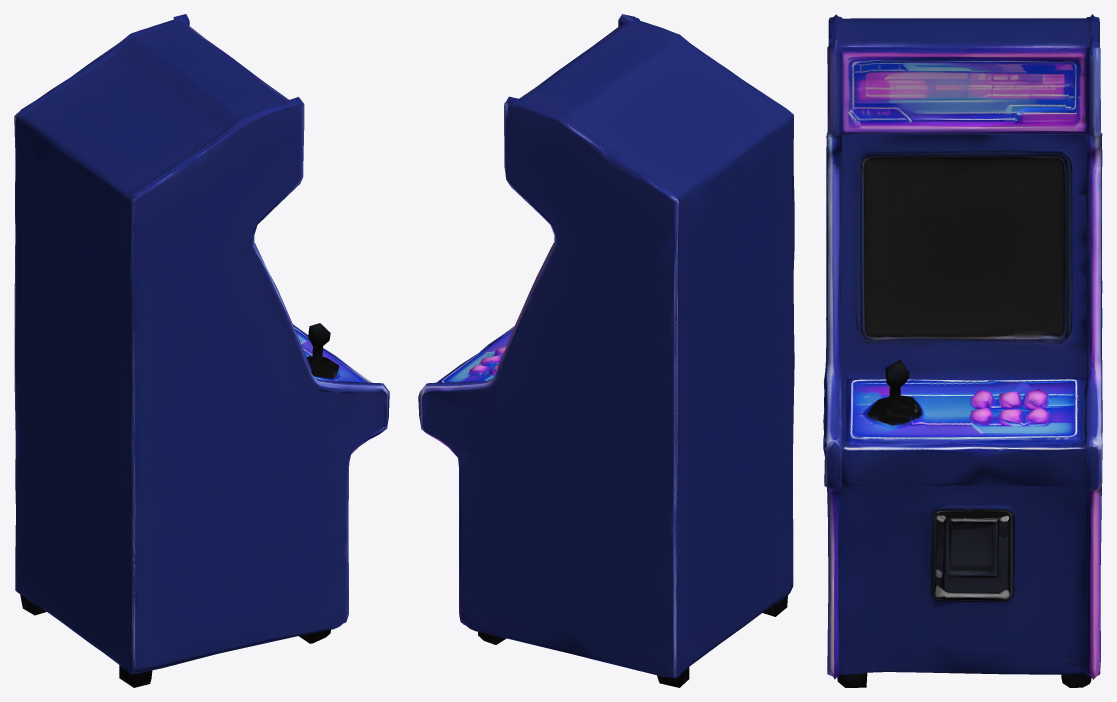
The picture shows the model from 3 angles, left to right: view 1: azimuth 30°, elevation 25°; view 2: azimuth 150°, elevation 25°; view 3: azimuth 270°, elevation 25°; orthographic projection. The views are drawn at different scales.
Visible parts, largest first — view 1: tripo_node_149d09b4-27b8-451e-b20a-c644dd62eced; view 2: tripo_node_149d09b4-27b8-451e-b20a-c644dd62eced; view 3: tripo_node_149d09b4-27b8-451e-b20a-c644dd62eced.
Part boxes in pixels (x1,y1,x2,y2): tripo_node_149d09b4-27b8-451e-b20a-c644dd62eced: (14,14,389,687); tripo_node_149d09b4-27b8-451e-b20a-c644dd62eced: (418,14,794,687); tripo_node_149d09b4-27b8-451e-b20a-c644dd62eced: (823,14,1102,687).
Size of the model in its own units: 0.4909 by 1 by 0.4026.
Materials: 1 (1 with a texture image).
